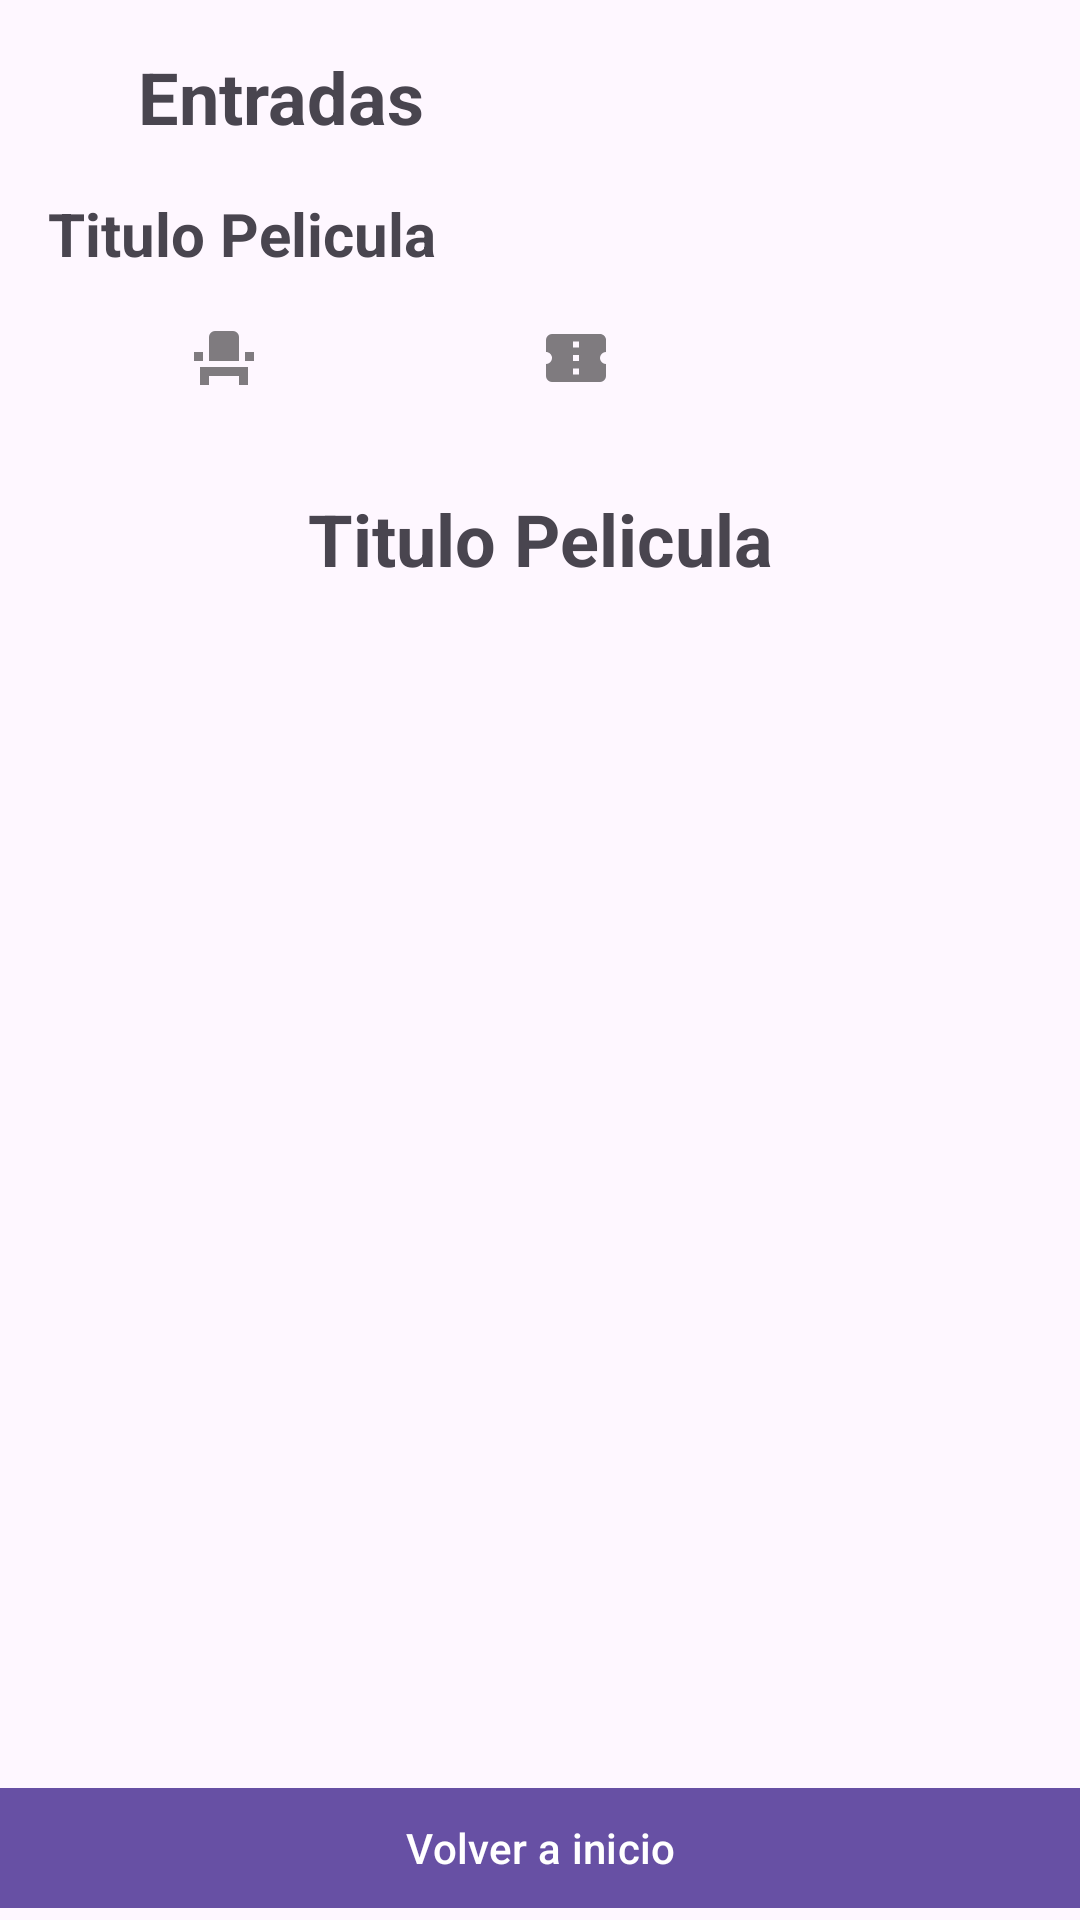

Where to tap for icons on this 1080 × 1920 app screen, as (x=x, y=y):
seat: (x=224, y=358)
ticket confirmation: (x=576, y=358)
